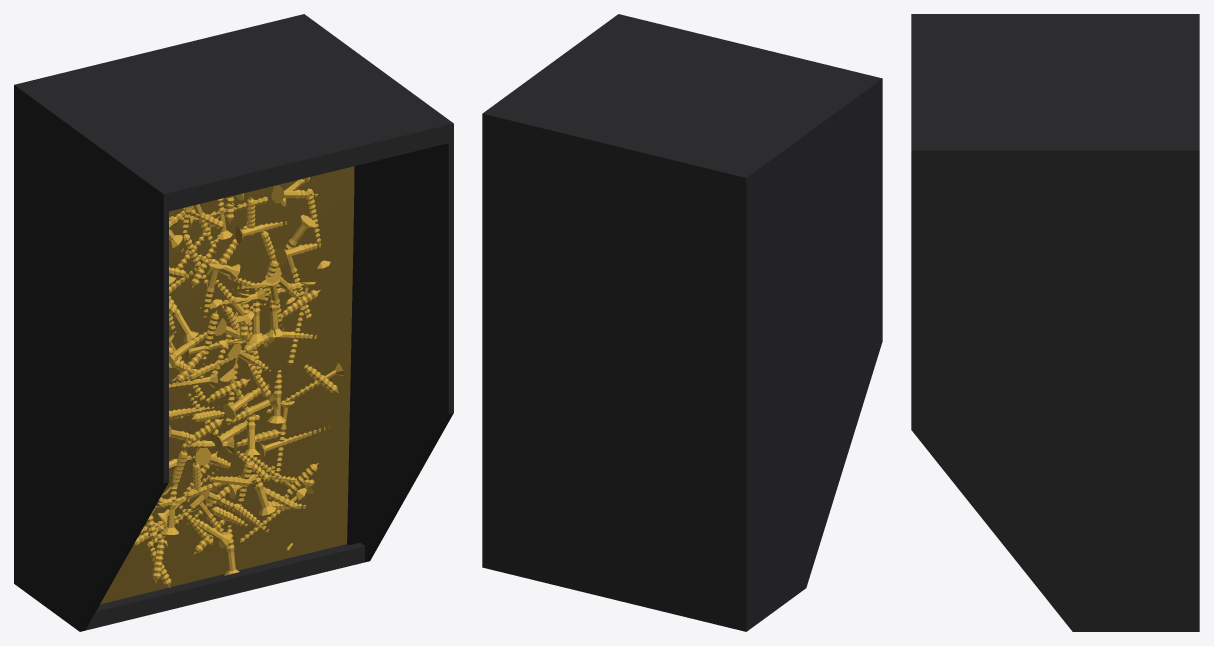
File: bin_parafusos.obj
The picture shows the model from 3 angles, left to right: view 1: azimuth 30°, elevation 25°; view 2: azimuth 150°, elevation 25°; view 3: azimuth 270°, elevation 25°; orthographic projection. The views are drawn at different scales.
Visible parts, largest first — view 1: bin_parafusos_plastico_bin, bin_parafusos_massa_monte_parafusos, bin_parafusos_zinco_amarelo; view 2: bin_parafusos_plastico_bin; view 3: bin_parafusos_plastico_bin.
Boxes of the visible parts, bbox=[...] form: bin_parafusos_plastico_bin: bbox=[14, 14, 453, 631]; bin_parafusos_massa_monte_parafusos: bbox=[100, 166, 354, 604]; bin_parafusos_zinco_amarelo: bbox=[133, 177, 344, 588]; bin_parafusos_plastico_bin: bbox=[482, 14, 882, 631]; bin_parafusos_plastico_bin: bbox=[911, 14, 1199, 631].
Size of the model in its own units: 140 by 230 by 125.
